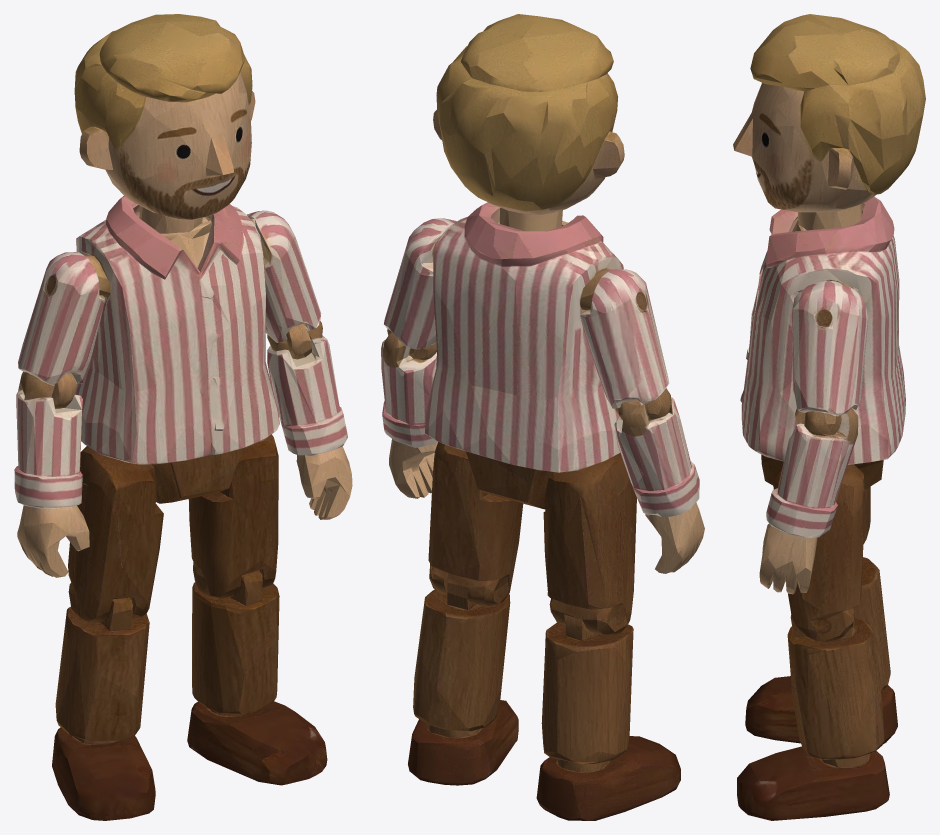
File: giant-2.glb
The picture shows the model from 3 angles, left to right: view 1: azimuth 30°, elevation 25°; view 2: azimuth 150°, elevation 25°; view 3: azimuth 270°, elevation 25°; orthographic projection. The views are drawn at different scales.
Size of the model in its own units: 0.8349 by 1.9 by 0.4544.
1 material, 1 textured.
